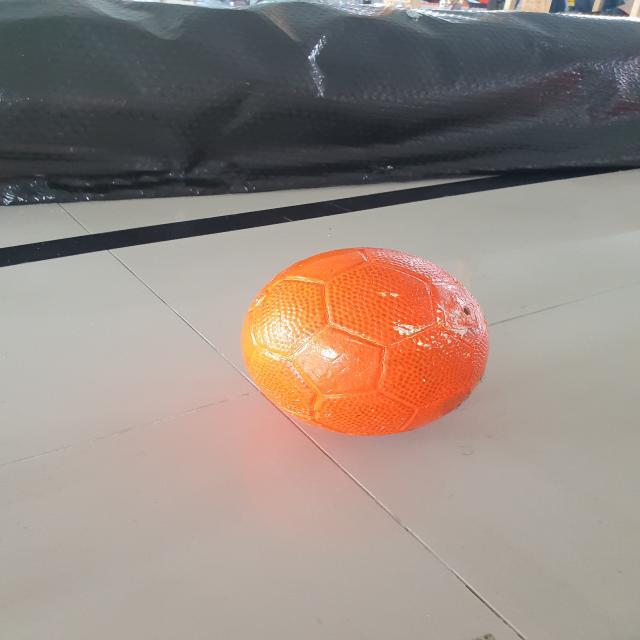bola: (241, 242, 492, 444)
